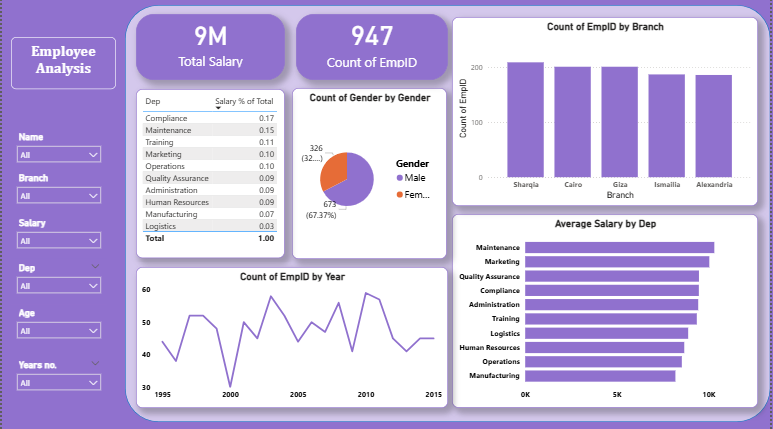

The dashboard page shown, as its layout file describes it:
{"tool":"powerbi","page":{"name":"Page 1","canvas":[1280,720],"ordinal":0},"visuals":[{"type":"shape","box":[204.2,11.8,1075.6,695],"z":0},{"type":"card","fields":{"Values":["Employee Database.Total Salary"]},"box":[223.3,26.4,248.3,110.2],"z":1000},{"type":"slicer","fields":{"Values":["Employee Database.Age"]},"box":[14.8,510,159.6,87.2],"z":2000},{"type":"slicer","fields":{"Values":["Employee Database.Years no."]},"box":[14.8,597.2,159.6,87.2],"z":3000},{"type":"slicer","fields":{"Values":["Employee Database.Name"]},"box":[14.8,217.2,159.6,67.5],"z":4000},{"type":"slicer","fields":{"Values":["Employee Database.Branch"]},"box":[14.8,284.6,159.6,75.7],"z":5000},{"type":"slicer","fields":{"Values":["Employee Database.Dep"]},"box":[14.8,434.3,159.6,75.7],"z":6000},{"type":"slicer","fields":{"Values":["Employee Database.Salary"]},"box":[14.8,360.3,159.6,74],"z":7000},{"type":"clusteredBarChart","fields":{"Category":["HR_DB.Dep"],"Y":["Employee Database.Average Salary"]},"box":[750,360,510,323.3],"z":8000},{"type":"pieChart","fields":{"Y":["Employee Database.Gender"],"Category":["Employee Database.Gender"]},"box":[483.3,150,258.3,285],"z":9000},{"type":"card","fields":{"Values":["Employee Database.EmpID"]},"box":[489.3,26.4,252.7,110.2],"z":10000},{"type":"tableEx","fields":{"Values":["HR_DB.Dep","Employee Database.Salary % of Total"]},"box":[223.3,151.7,248.3,281.7],"z":11000},{"type":"clusteredColumnChart","fields":{"Category":["Employee Database.Branch"],"Y":["Employee Database.EmpID"]},"box":[750,31.7,510,315],"z":12000},{"type":"textbox","box":[15,65,175,86.7],"z":13000},{"type":"lineChart","fields":{"Y":["HR_DB.EmpID"],"Category":["HR_DB.Hire date.Variation.Date Hierarchy.Year"]},"box":[223.3,448.3,520,235],"z":14000}]}

Visuals, with their boxes in screenshot pixels (x1, y1, x2, y2), scaled from the page's 1280x720 canvas onto the 773x429 screenshot:
shape: 123:7:772:421
card - Employee Database.Total Salary: 135:16:285:81
slicer - Employee Database.Age: 9:304:105:356
slicer - Employee Database.Years no.: 9:356:105:408
slicer - Employee Database.Name: 9:129:105:170
slicer - Employee Database.Branch: 9:170:105:215
slicer - Employee Database.Dep: 9:259:105:304
slicer - Employee Database.Salary: 9:215:105:259
clusteredBarChart - HR_DB.Dep x Employee Database.Average Salary: 453:214:761:407
pieChart - Employee Database.Gender x Employee Database.Gender: 292:89:448:259
card - Employee Database.EmpID: 295:16:448:81
tableEx - HR_DB.Dep x Employee Database.Salary % of Total: 135:90:285:258
clusteredColumnChart - Employee Database.Branch x Employee Database.EmpID: 453:19:761:207
textbox: 9:39:115:90
lineChart - HR_DB.EmpID x HR_DB.Hire date.Variation.Date Hierarchy.Year: 135:267:449:407
